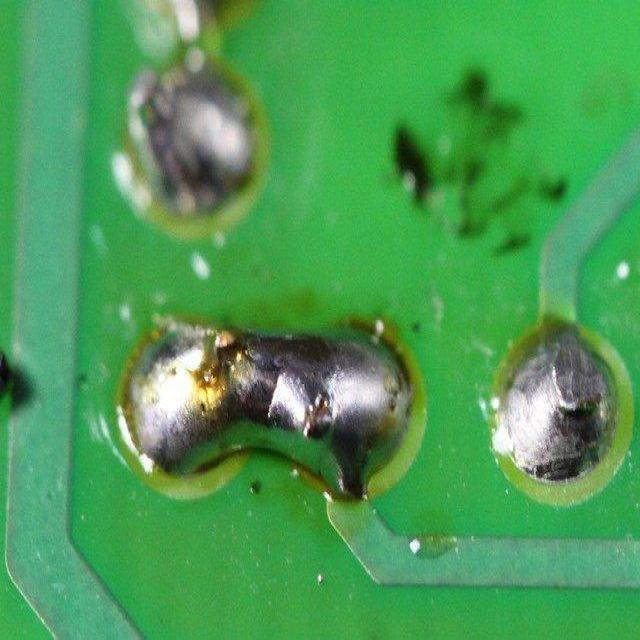Short_circuit: (123, 320, 413, 497)
